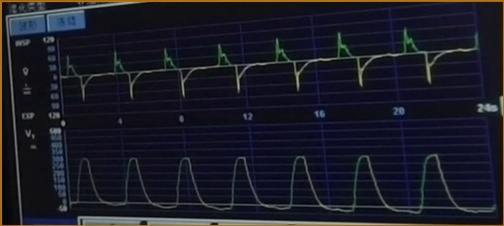Accumulation Flow: (59, 28, 471, 100)
Volume: (72, 147, 485, 216)
